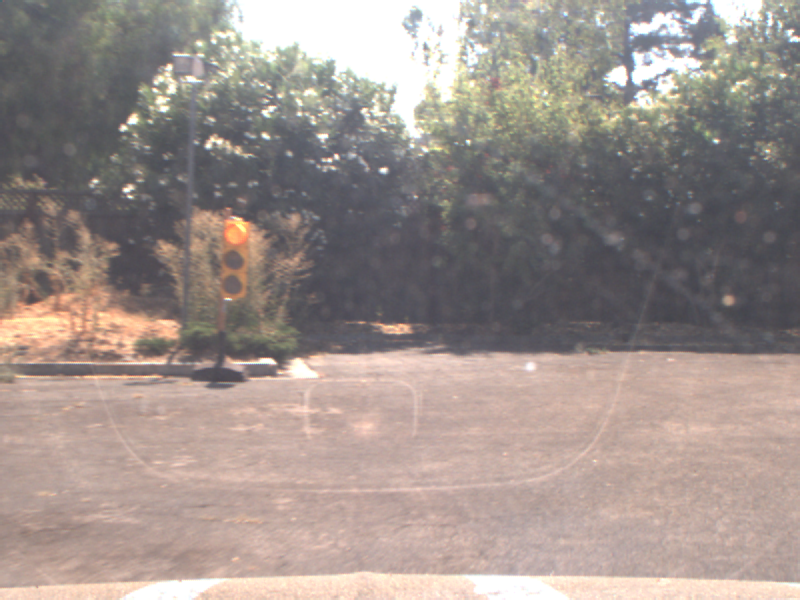red: (218, 215, 249, 304)
